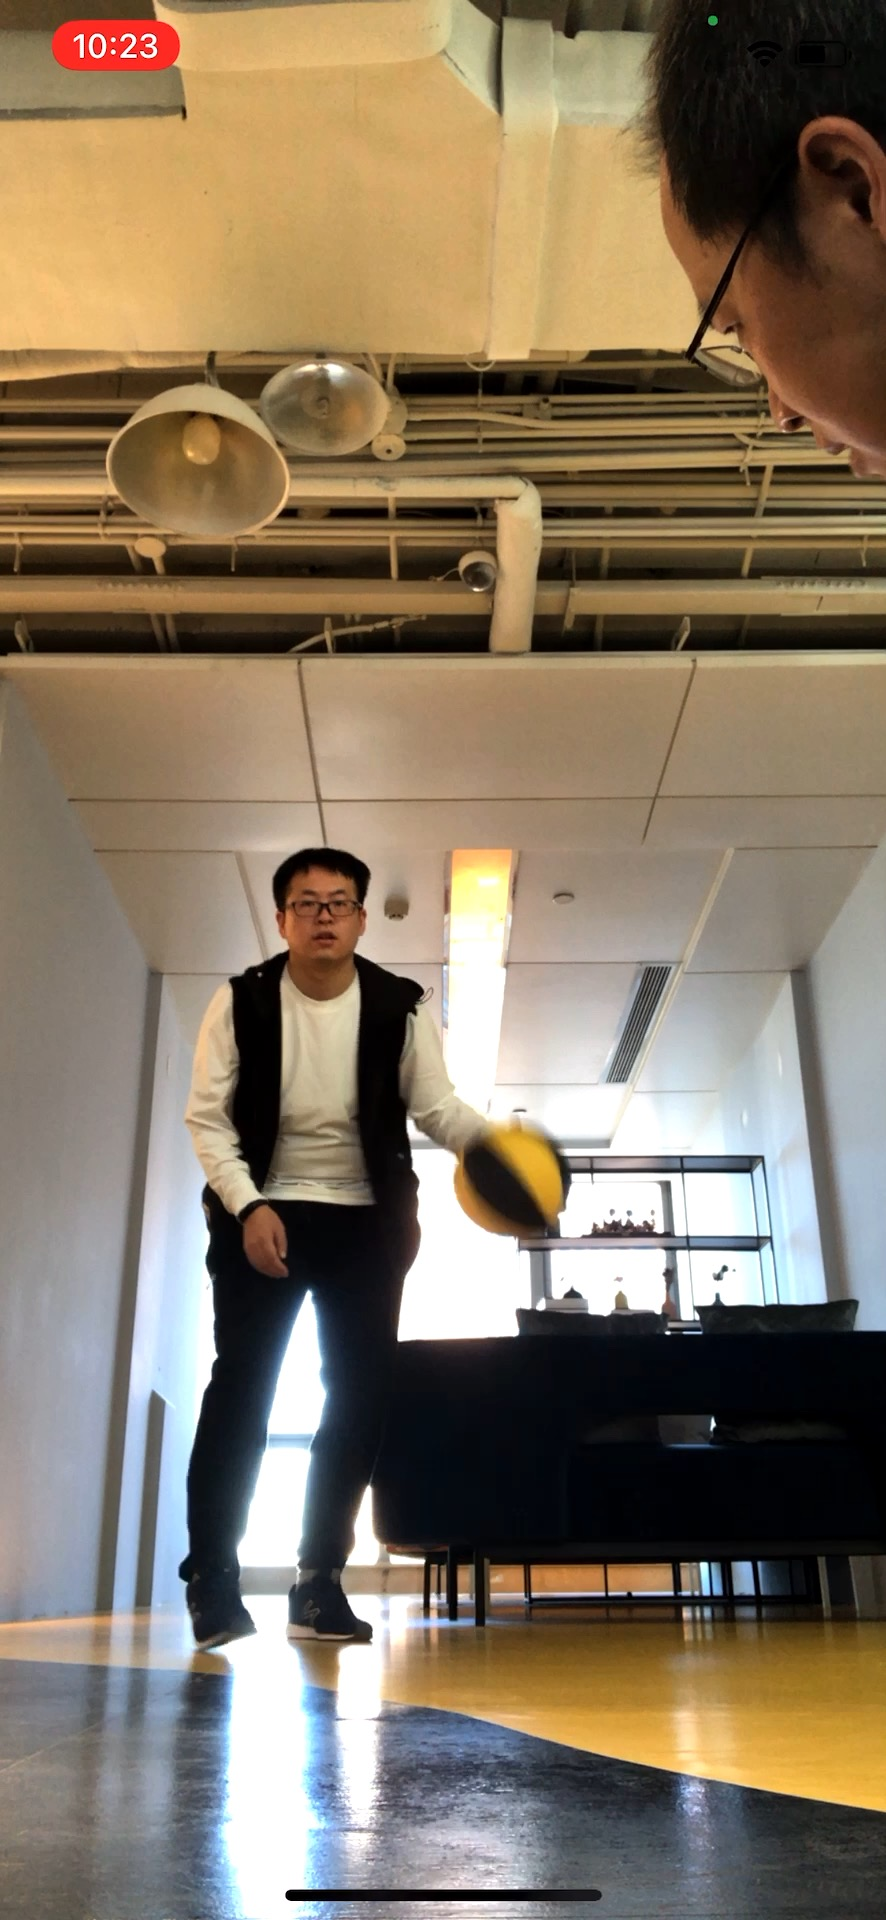ball: (453, 1123, 574, 1240)
